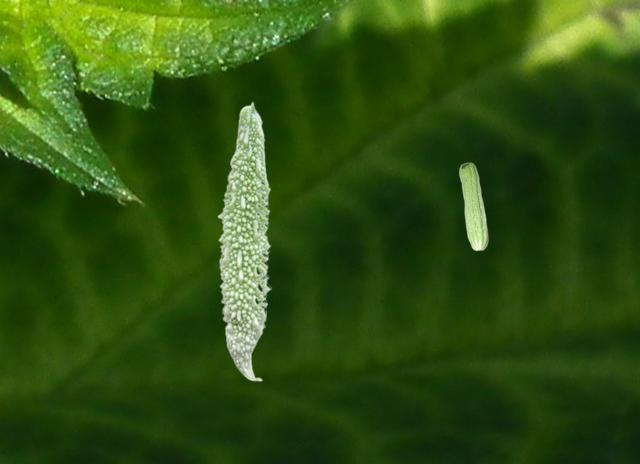ampalaya: (215, 99, 272, 383), (457, 162, 488, 251)
